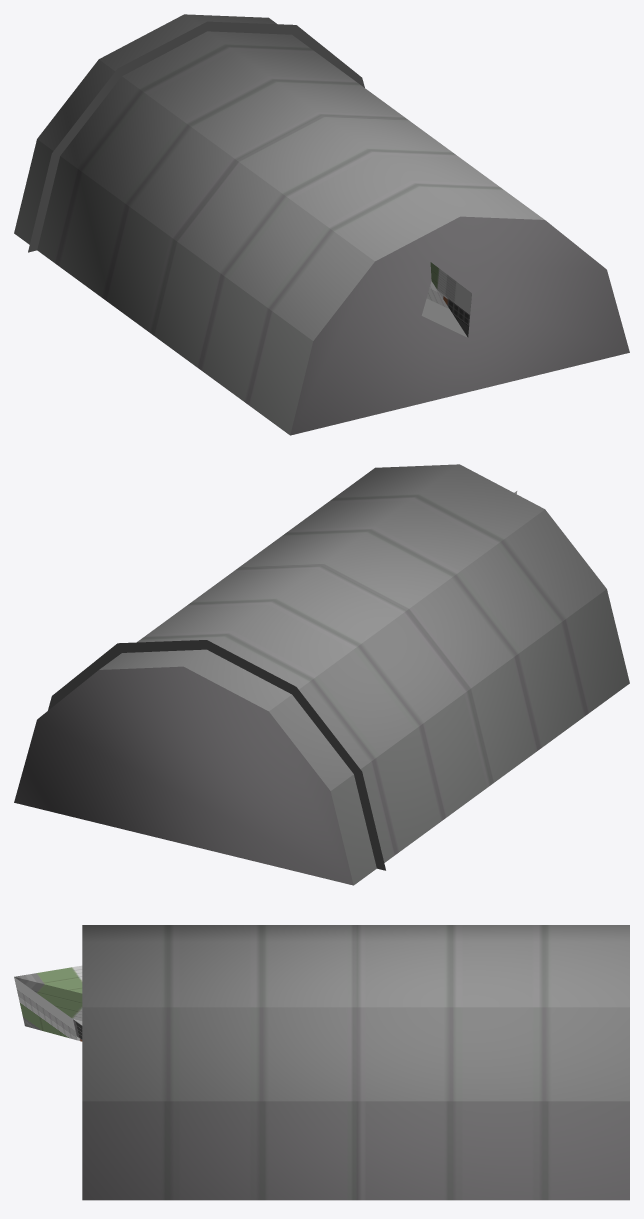
3 renders of one model, top to bottom at view 1: azimuth 30°, elevation 25°; view 2: azimuth 150°, elevation 25°; view 3: azimuth 270°, elevation 25°, orthographic.
Visible parts, largest first — view 1: H5_cell.008, H5_cell.005, H5_cell.003; view 2: H5_cell.008, H5_cell.005; view 3: H5_cell.008, H5_cell.003.
Part boxes in pixels (left/top/right/bottom): H5_cell.008: left=14, top=14, right=629, bottom=435; H5_cell.005: left=28, top=21, right=364, bottom=252; H5_cell.003: left=421, top=262, right=471, bottom=337; H5_cell.008: left=14, top=464, right=629, bottom=885; H5_cell.005: left=48, top=640, right=385, bottom=870; H5_cell.008: left=82, top=925, right=629, bottom=1200; H5_cell.003: left=14, top=965, right=82, bottom=1041.
Bounding box in the file's own units: 4.66 × 2.33 × 7.
